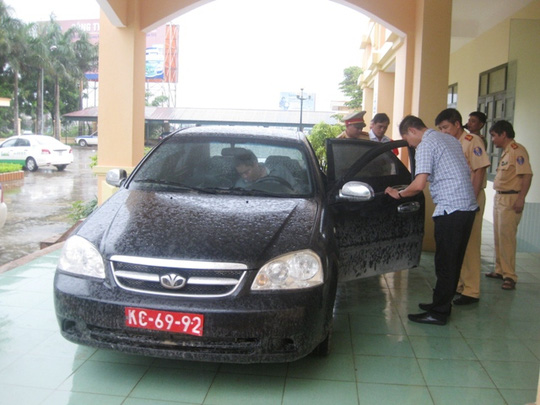plate: (124, 303, 205, 341)
